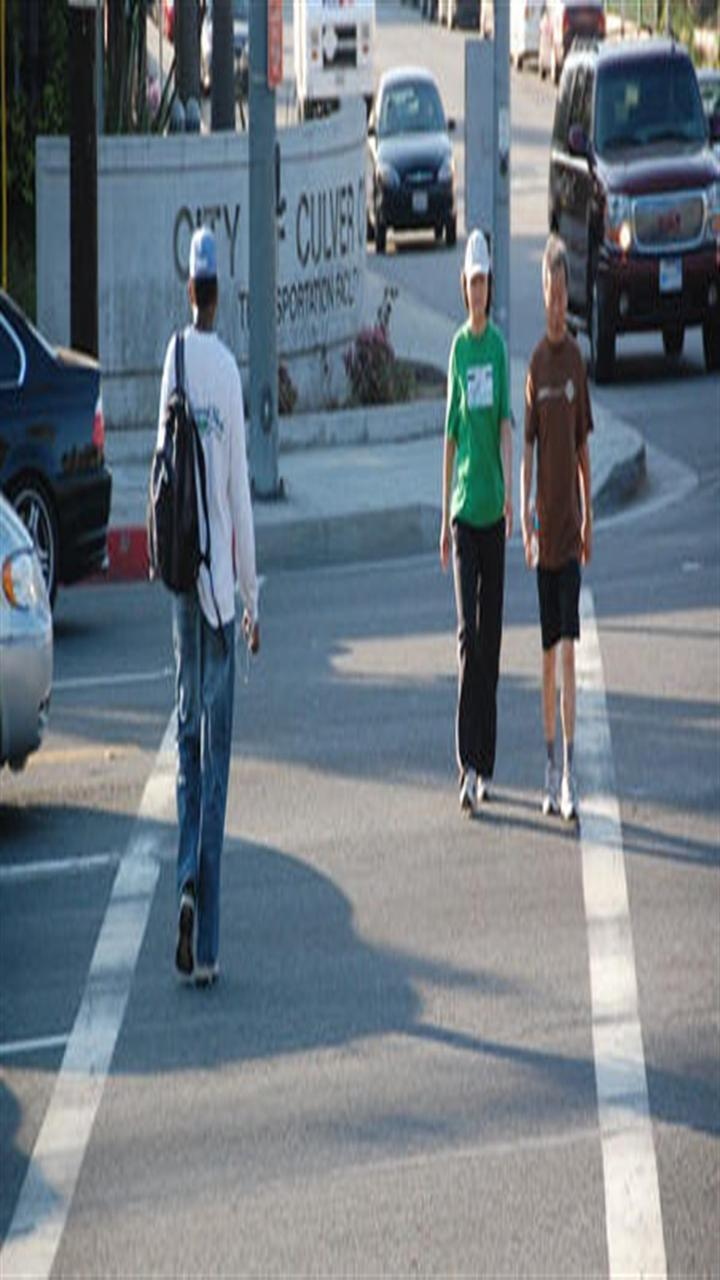pedestrian: (139, 227, 262, 1015), (415, 208, 519, 843), (493, 215, 597, 850)
vehicle: (531, 32, 719, 385), (354, 59, 462, 264)
